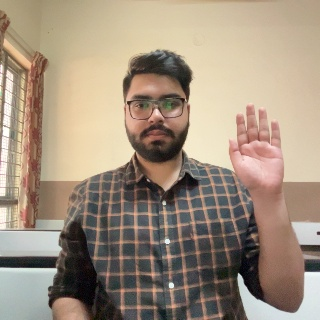Face: (125, 61, 193, 162)
Hello: (228, 102, 290, 212)
